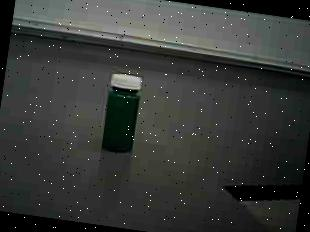Bottle C: (92, 67, 152, 164)
